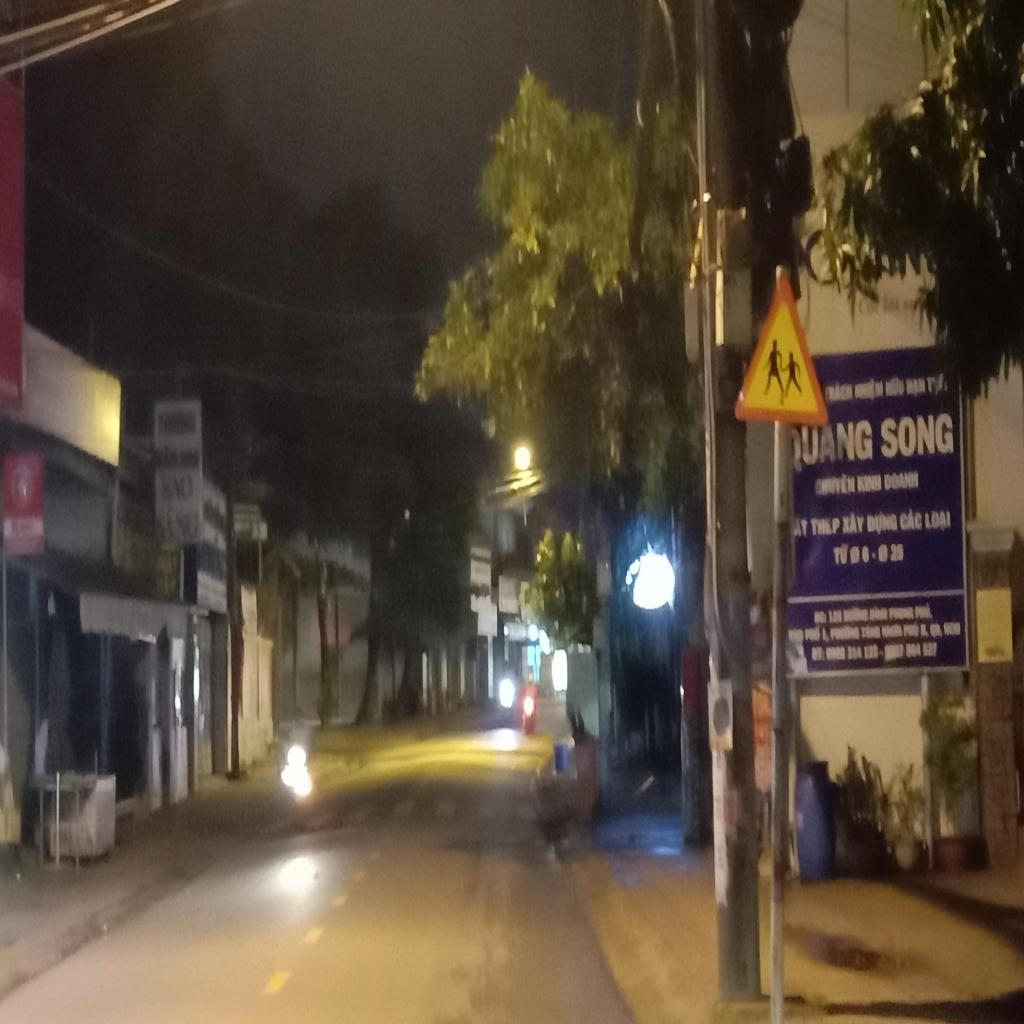chu_y_tre_em: (730, 266, 830, 424)
